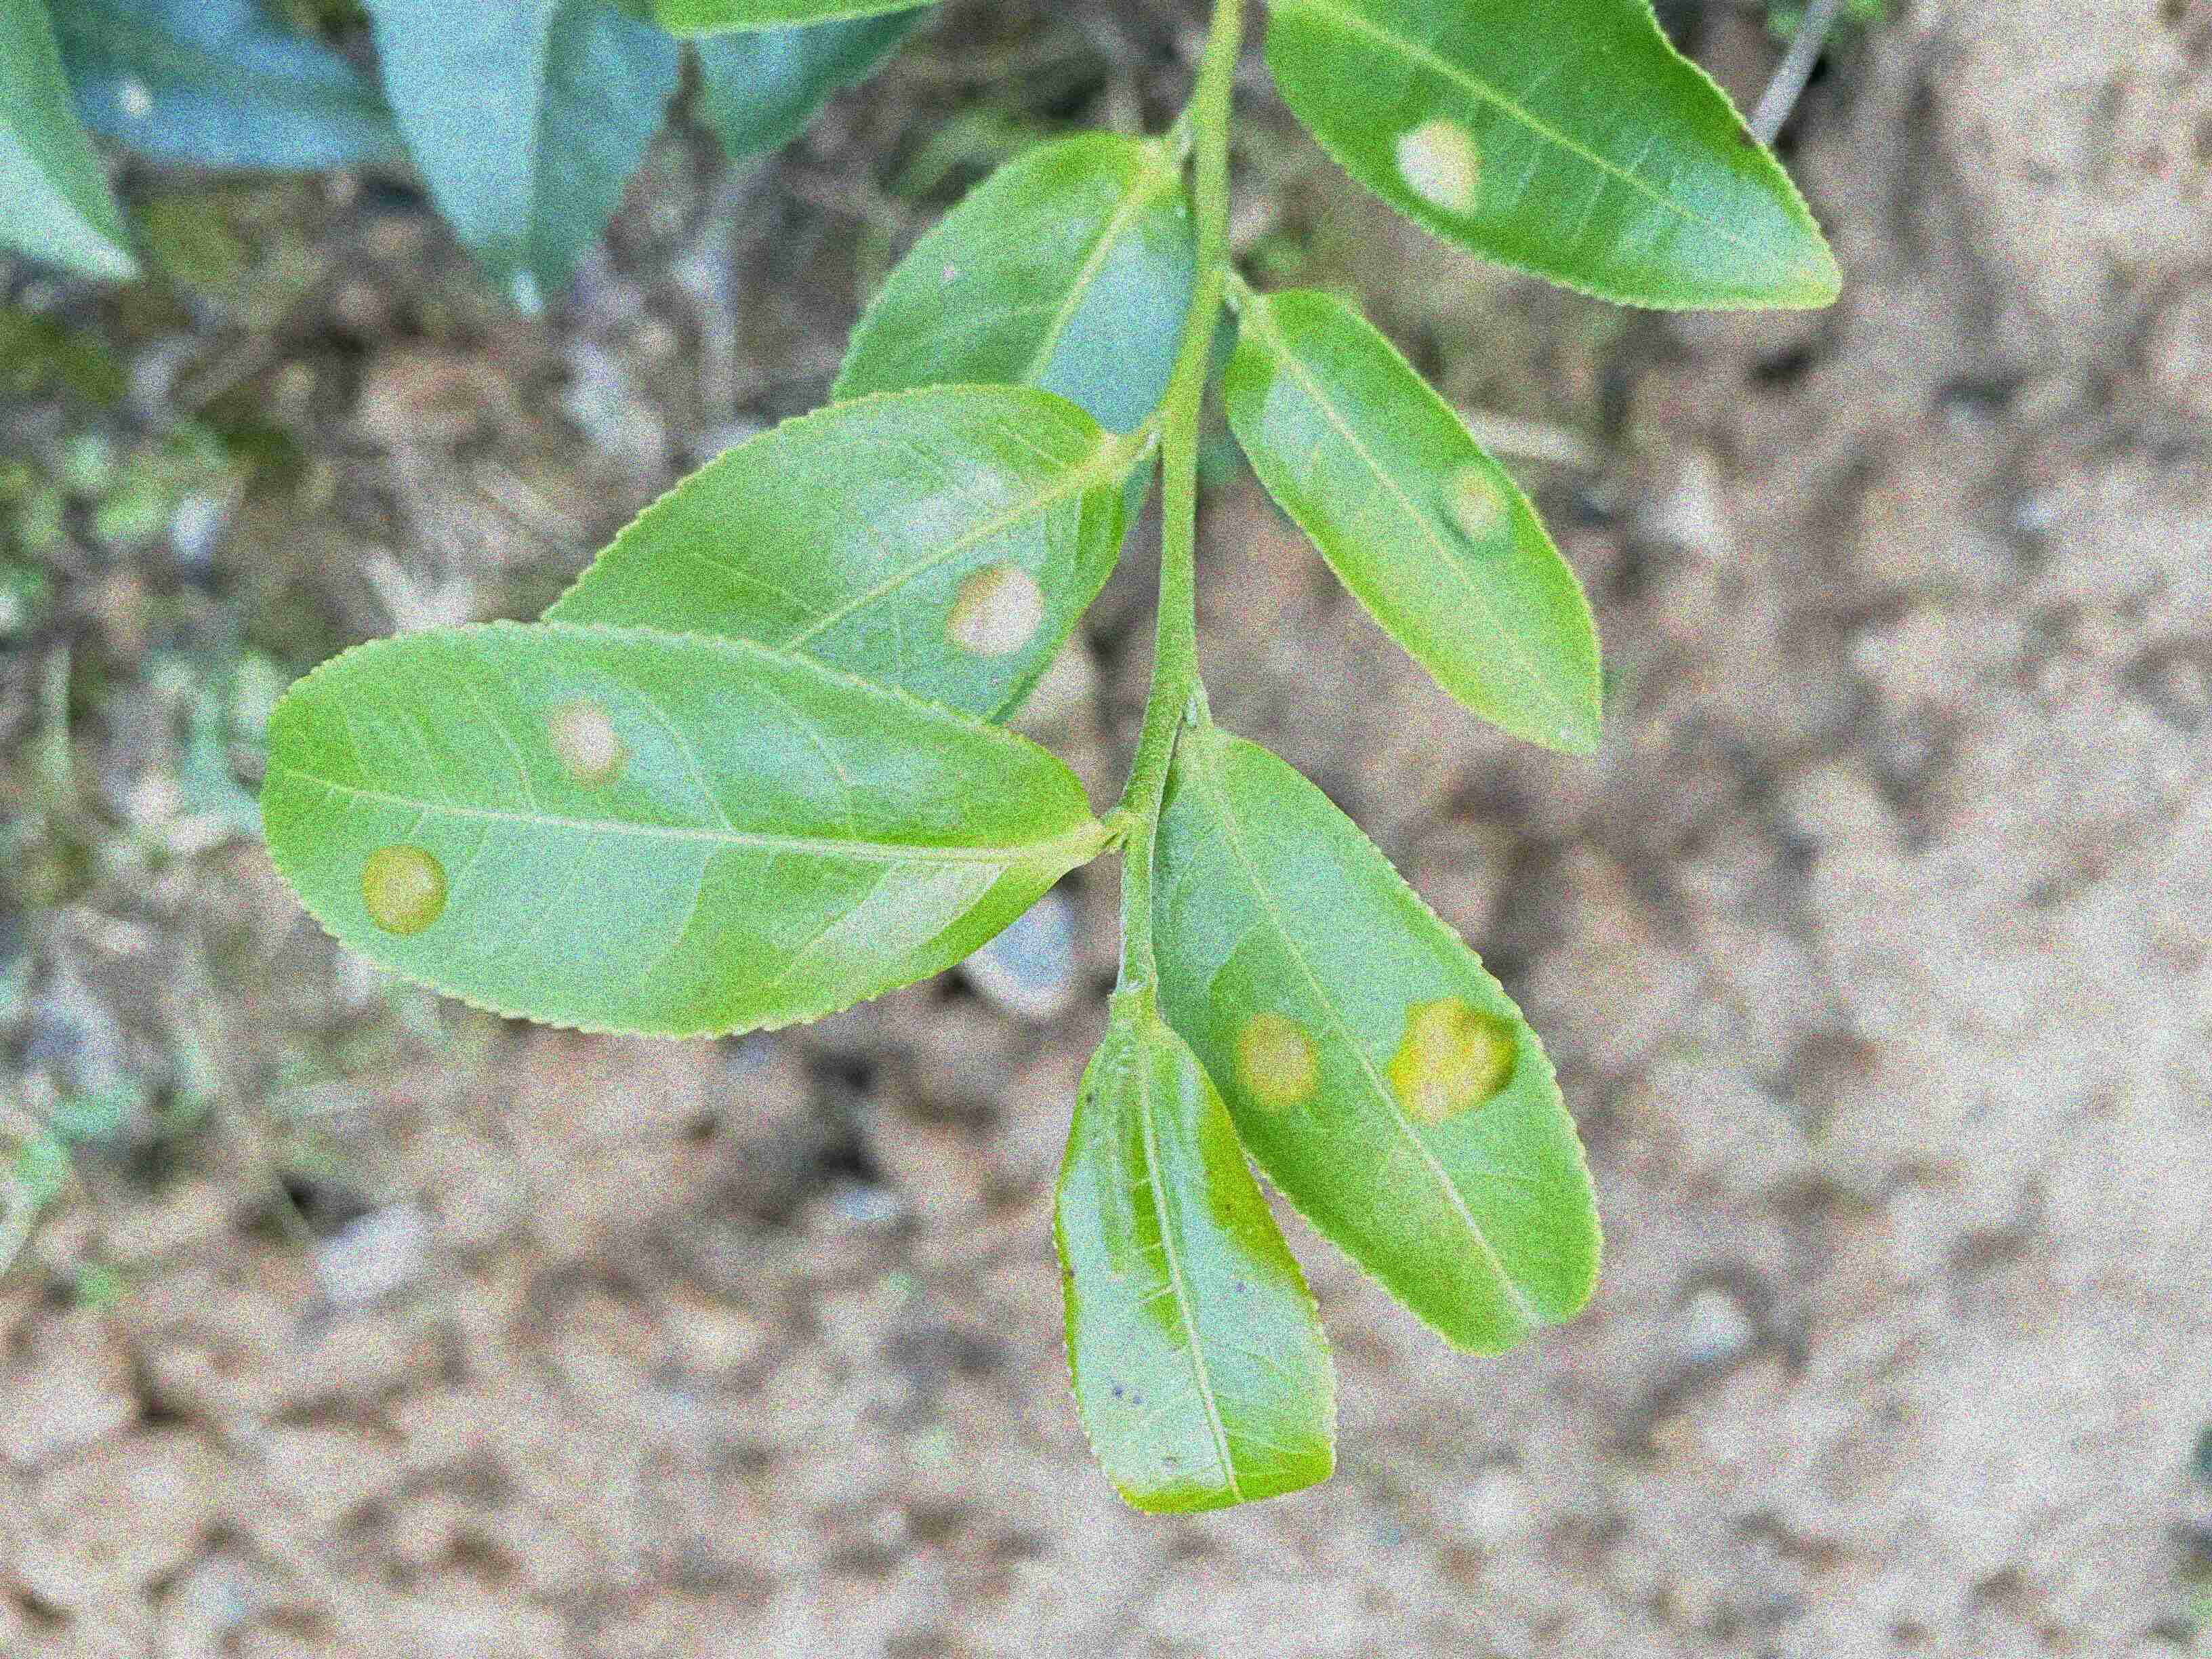chabing_high: (254, 619, 1106, 1042), (1160, 727, 1604, 1359)
chabing_low: (543, 389, 1144, 723), (1261, 0, 1846, 314), (1224, 298, 1606, 756)
